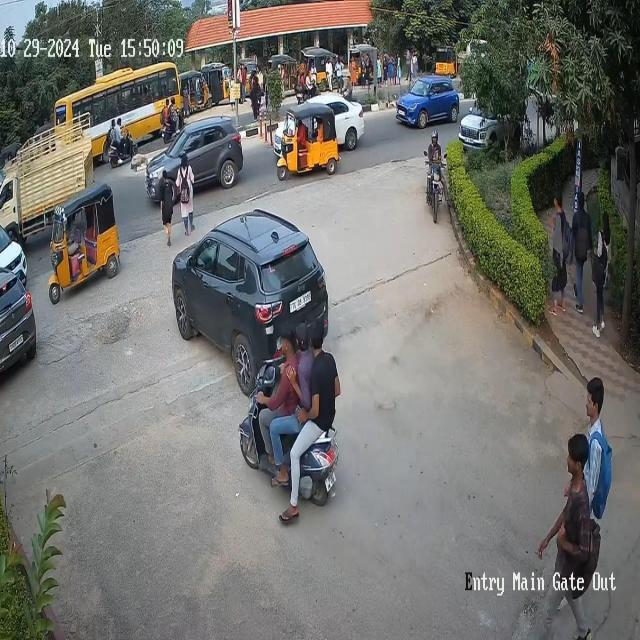triple_rider: (234, 316, 340, 503)
